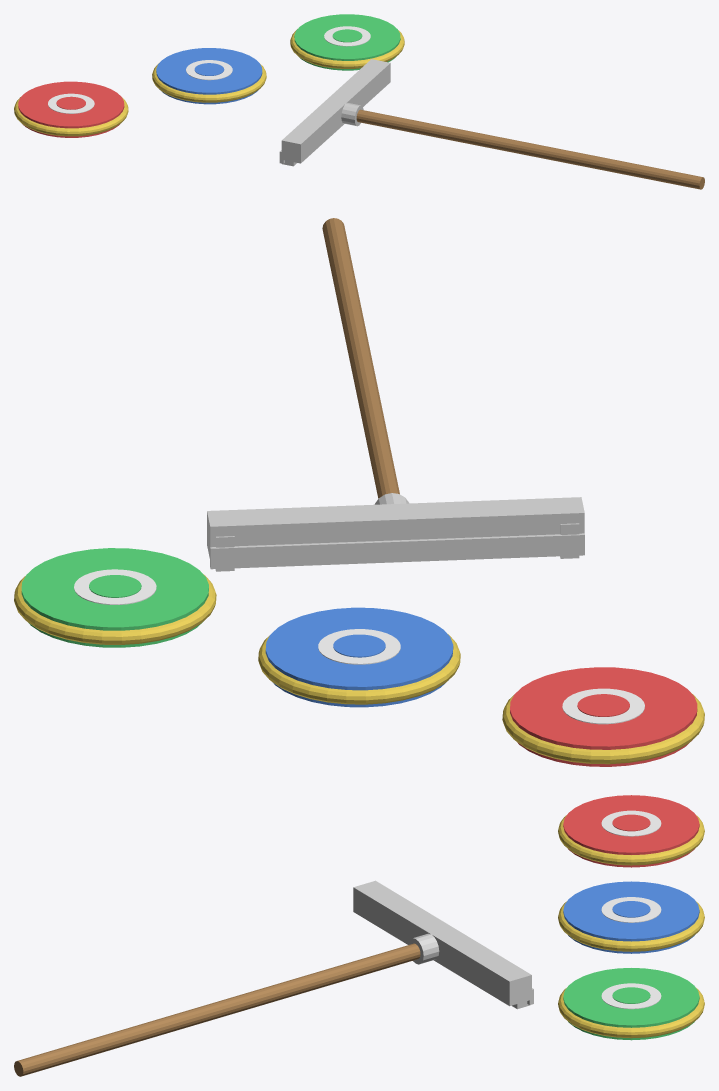
Rendered from casino.fbx.
3 renders of one model, top to bottom at view 1: azimuth 30°, elevation 25°; view 2: azimuth 150°, elevation 25°; view 3: azimuth 270°, elevation 25°, orthographic. The views are drawn at different scales.
Parts seen in each view (by area): view 1: Rastrillo_Mango, Rastrillo_Pala, Ficha_Azul, Ficha_Roja, Ficha_Verde, Ficha_Azul_Borde, Ficha_Roja_Borde, Ficha_Verde_Borde, Ficha_Roja_Centro, Ficha_Azul_Centro, Ficha_Verde_Centro, Rastrillo_Union (+3 smaller); view 2: Rastrillo_Pala, Ficha_Azul, Ficha_Verde, Ficha_Roja, Rastrillo_Labio, Rastrillo_Mango, Ficha_Azul_Borde, Ficha_Verde_Borde, Ficha_Roja_Borde, Ficha_Azul_Centro, Ficha_Roja_Centro, Ficha_Verde_Centro (+3 smaller); view 3: Rastrillo_Pala, Rastrillo_Mango, Ficha_Azul, Ficha_Roja, Ficha_Verde, Ficha_Roja_Borde, Ficha_Verde_Borde, Ficha_Azul_Borde, Ficha_Roja_Centro, Ficha_Azul_Centro, Ficha_Verde_Centro, Rastrillo_Union (+3 smaller).
Part boxes in pixels (x1=…): Rastrillo_Mango: x1=356, y1=109, x2=704, y2=189; Rastrillo_Pala: x1=281, y1=59, x2=390, y2=163; Ficha_Azul: x1=156, y1=48, x2=262, y2=104; Ficha_Roja: x1=18, y1=81, x2=124, y2=137; Ficha_Verde: x1=294, y1=14, x2=400, y2=70; Ficha_Azul_Borde: x1=152, y1=62, x2=266, y2=102; Ficha_Roja_Borde: x1=14, y1=97, x2=128, y2=136; Ficha_Verde_Borde: x1=290, y1=29, x2=404, y2=68; Ficha_Roja_Centro: x1=48, y1=93, x2=94, y2=113; Ficha_Azul_Centro: x1=186, y1=60, x2=232, y2=80; Ficha_Verde_Centro: x1=324, y1=26, x2=370, y2=46; Rastrillo_Union: x1=341, y1=102, x2=363, y2=126; Rastrillo_Pala: x1=207, y1=497, x2=584, y2=559; Ficha_Azul: x1=265, y1=607, x2=453, y2=707; Ficha_Verde: x1=21, y1=548, x2=208, y2=647; Ficha_Roja: x1=510, y1=667, x2=697, y2=766; Rastrillo_Labio: x1=210, y1=533, x2=584, y2=569; Rastrillo_Mango: x1=322, y1=218, x2=399, y2=498; Ficha_Azul_Borde: x1=258, y1=633, x2=460, y2=704; Ficha_Verde_Borde: x1=14, y1=574, x2=216, y2=644; Ficha_Roja_Borde: x1=502, y1=693, x2=704, y2=764; Ficha_Azul_Centro: x1=318, y1=629, x2=400, y2=664; Ficha_Roja_Centro: x1=562, y1=688, x2=644, y2=724; Ficha_Verde_Centro: x1=74, y1=569, x2=156, y2=604; Rastrillo_Pala: x1=353, y1=880, x2=531, y2=1006; Rastrillo_Mango: x1=14, y1=943, x2=420, y2=1076; Ficha_Azul: x1=563, y1=881, x2=699, y2=953; Ficha_Roja: x1=563, y1=795, x2=699, y2=867; Ficha_Verde: x1=563, y1=968, x2=699, y2=1040; Ficha_Roja_Borde: x1=558, y1=815, x2=704, y2=865; Ficha_Verde_Borde: x1=558, y1=988, x2=704, y2=1038; Ficha_Azul_Borde: x1=558, y1=901, x2=704, y2=951; Ficha_Roja_Centro: x1=601, y1=810, x2=661, y2=836; Ficha_Azul_Centro: x1=601, y1=897, x2=661, y2=922; Ficha_Verde_Centro: x1=601, y1=983, x2=661, y2=1009; Rastrillo_Union: x1=408, y1=933, x2=439, y2=964.
Size of the model in its own units: 485 by 26 by 507.
